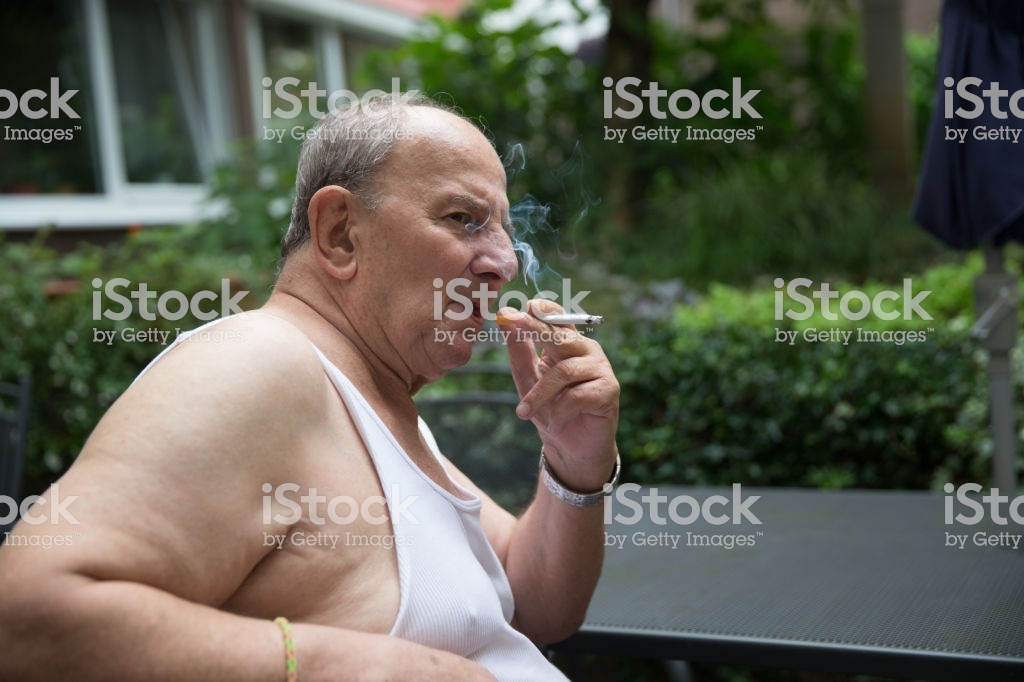sigaretta: (504, 314, 612, 333)
